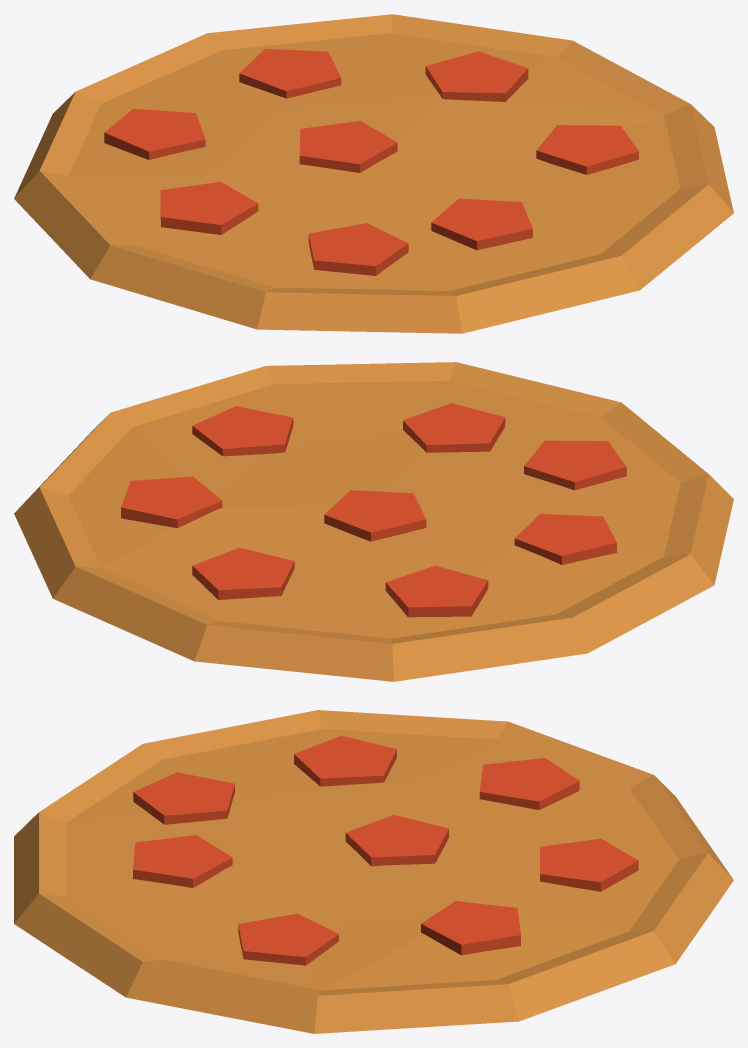
Rendered from Pepperoni.glb.
3 renders of one model, top to bottom at view 1: azimuth 30°, elevation 25°; view 2: azimuth 150°, elevation 25°; view 3: azimuth 270°, elevation 25°, orthographic.
Parts seen in each view (by area): view 1: Pepperoni; view 2: Pepperoni; view 3: Pepperoni.
Part boxes in pixels (x1,y1,x2,y2): Pepperoni: [14, 14, 733, 333]; Pepperoni: [14, 362, 733, 681]; Pepperoni: [14, 710, 733, 1033].
Size of the model in its own units: 0.4202 by 0.0219 by 0.4159.
